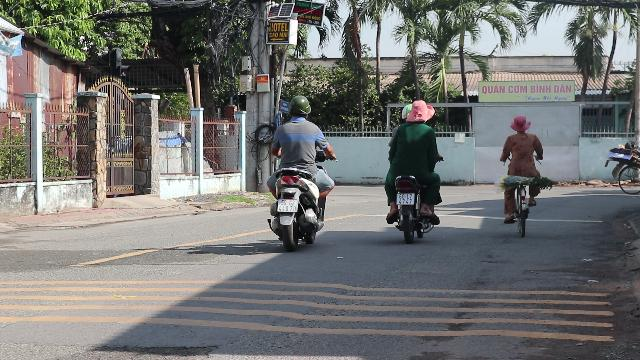helmet: (402, 100, 433, 124), (286, 94, 312, 120)
licenseplate: (278, 200, 298, 212), (396, 194, 414, 204)
motorcyclist: (264, 94, 336, 250)
nohelmet: (380, 100, 444, 242)
